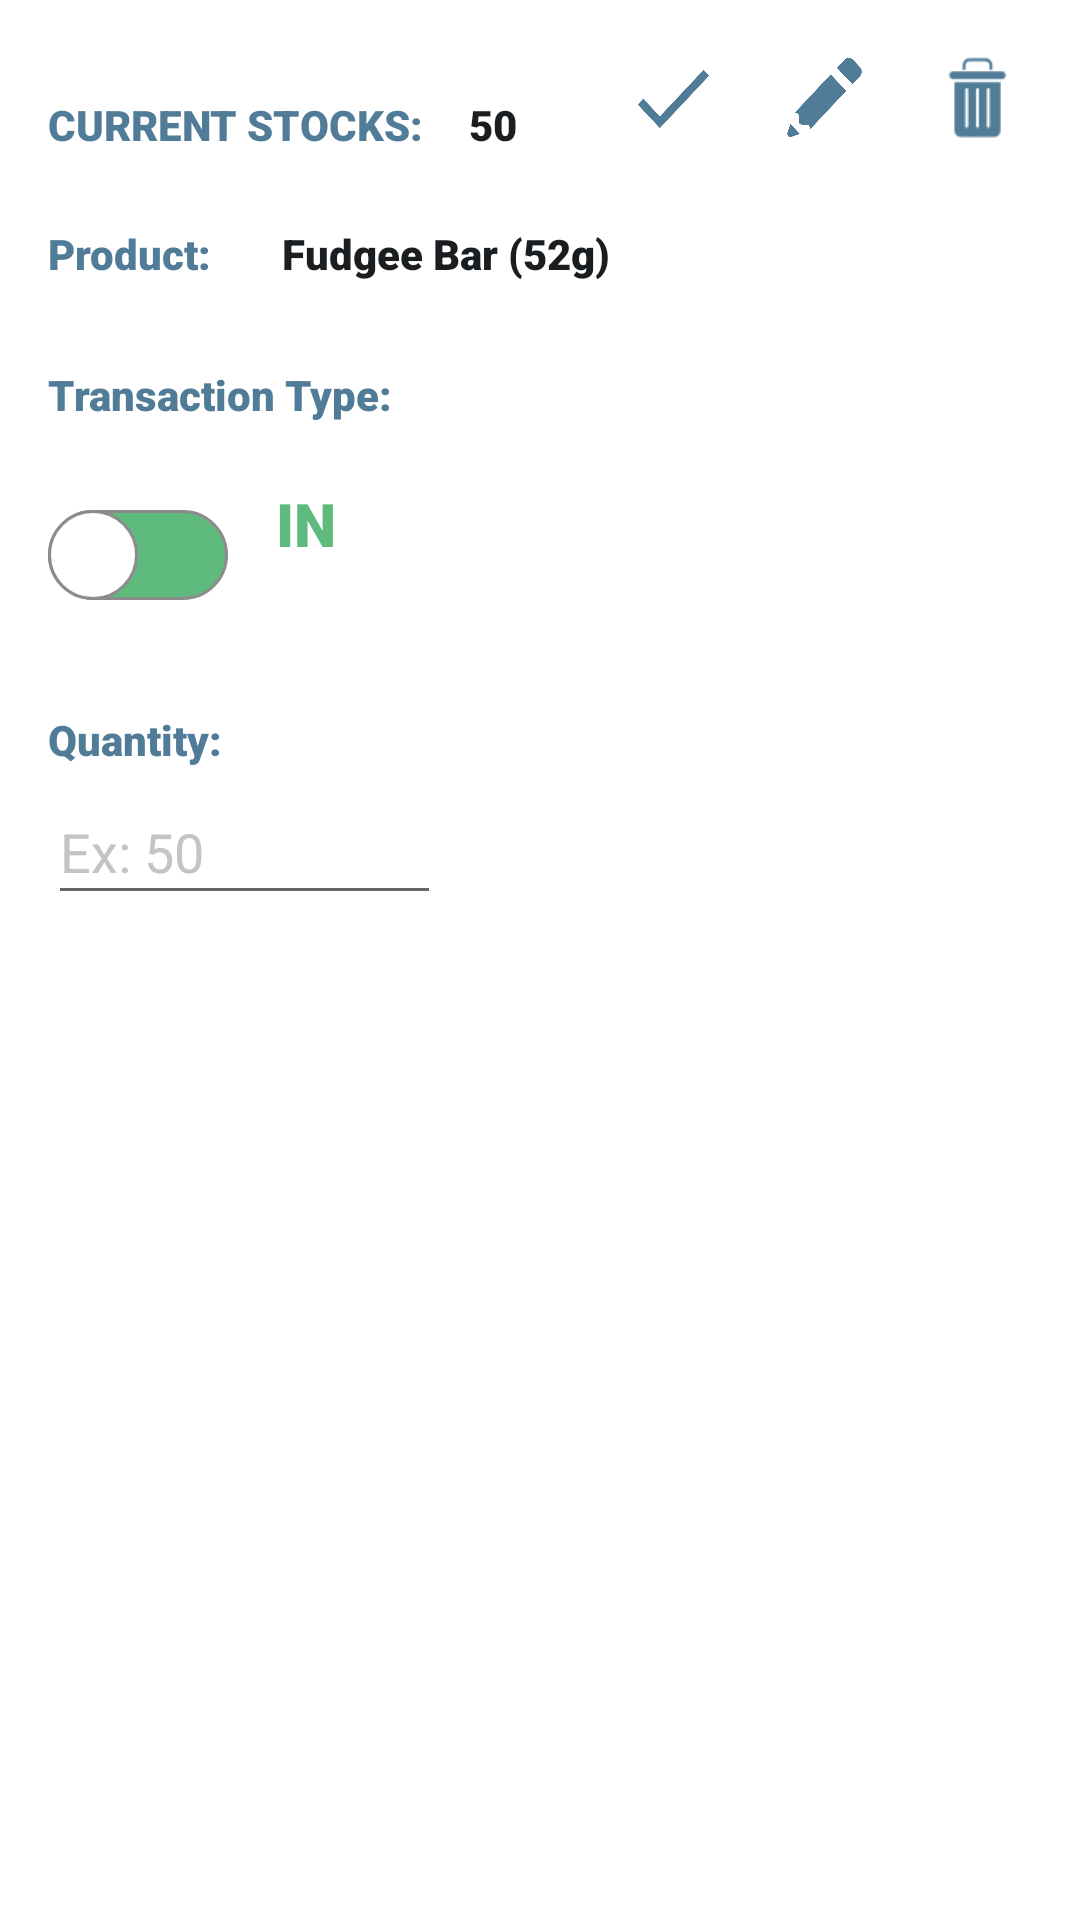

Icons on this 1080 × 1920 Android screen, each with its box as (x1, y1, x2, y2):
check: (638, 70, 709, 128)
delete: (948, 57, 1007, 138)
